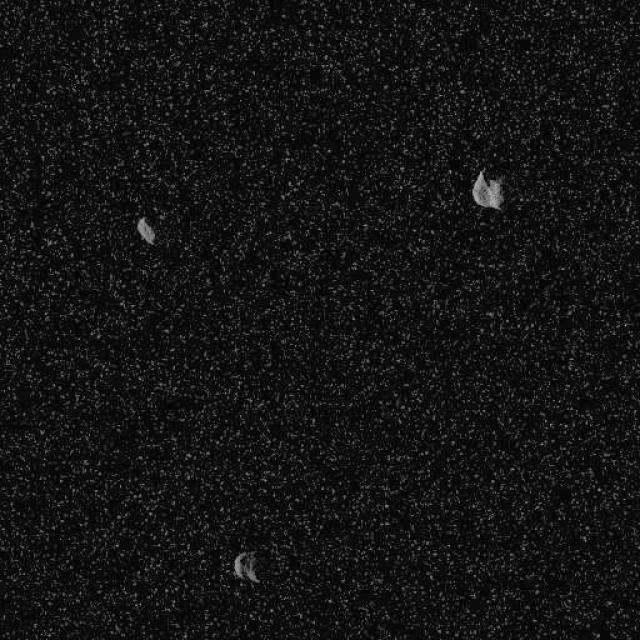D2: (470, 169, 504, 210), (232, 550, 260, 584), (135, 215, 155, 245)
